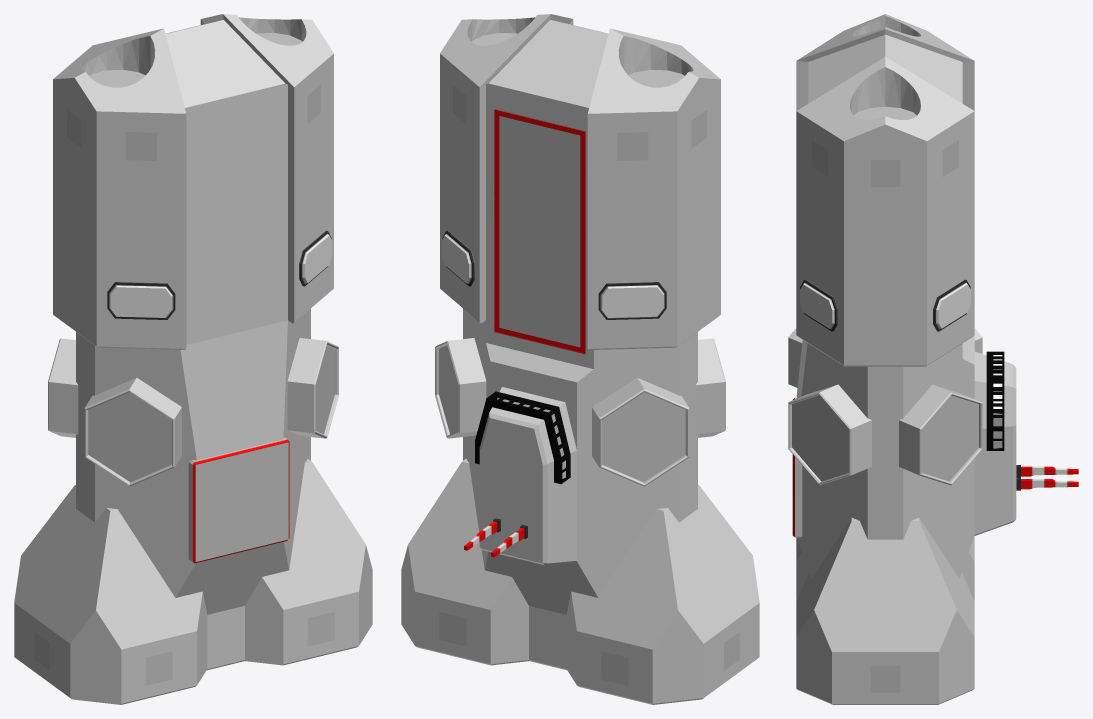
The model's file is Wicher7.fbx.
3 views of the same model, side by side, from view 1: azimuth 30°, elevation 25°; view 2: azimuth 150°, elevation 25°; view 3: azimuth 270°, elevation 25° (orthographic). The views are drawn at different scales.
Visible parts, largest first — view 1: Hull_LOD0; view 2: Hull_LOD0; view 3: Hull_LOD0.
Part boxes in pixels (box(x1,y1,x2,y2)): Hull_LOD0: box(14, 14, 372, 704); Hull_LOD0: box(401, 14, 759, 704); Hull_LOD0: box(788, 14, 1078, 704).
Bounding box in the file's own units: 280 × 550 × 244.
